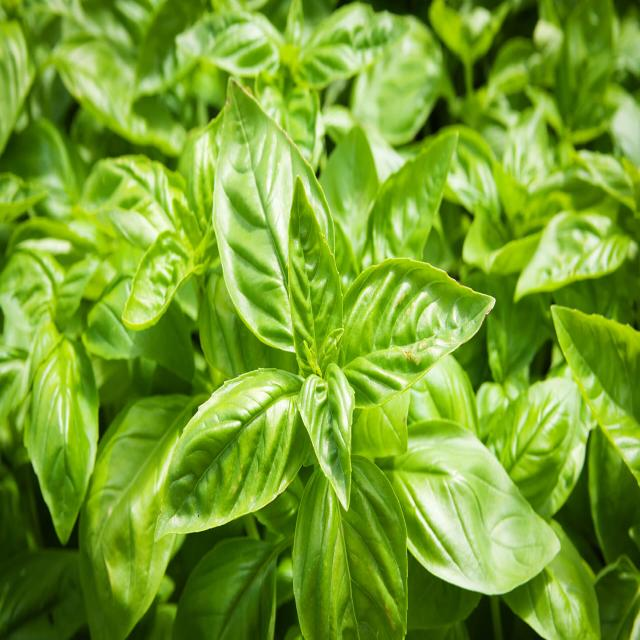Sweet Basil: (165, 96, 563, 640)
